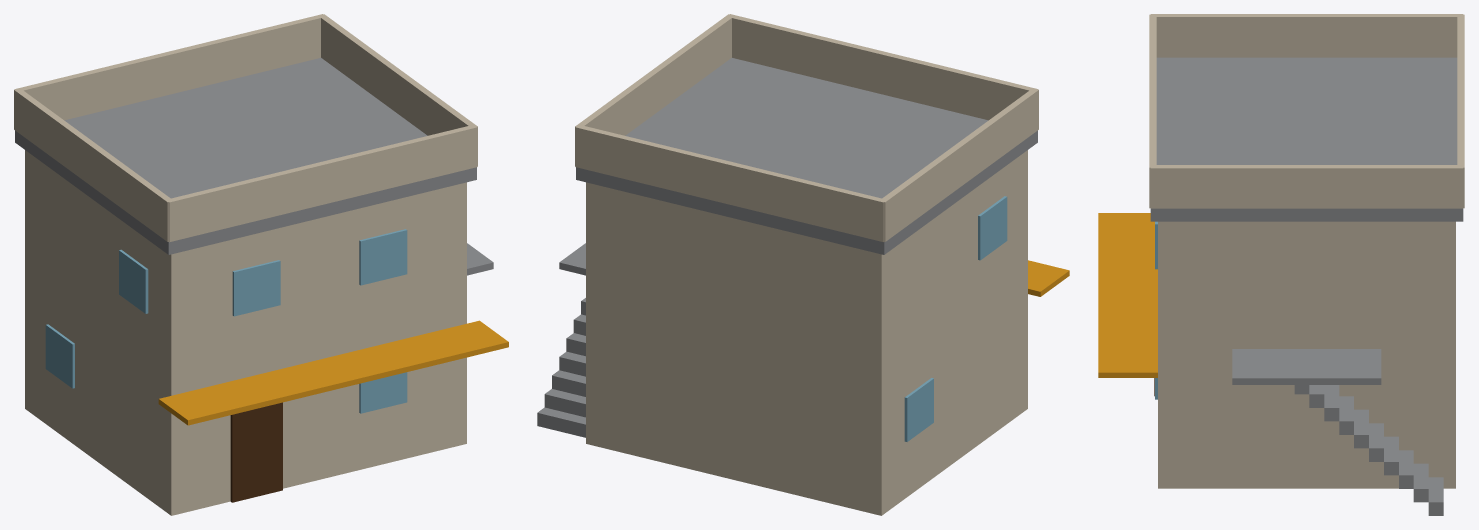
File: house_twostorey.glb
3 views of the same model, side by side, from view 1: azimuth 30°, elevation 25°; view 2: azimuth 150°, elevation 25°; view 3: azimuth 270°, elevation 25° (orthographic).
Parts seen in each view (by area): view 1: model; view 2: model; view 3: model.
Part boxes in pixels (x1,y1,x2,y2): model: (14, 14, 508, 515); model: (537, 14, 1069, 515); model: (1098, 14, 1464, 515).
Bounding box in the file's own units: 8.8 × 7.2 × 7.37.
